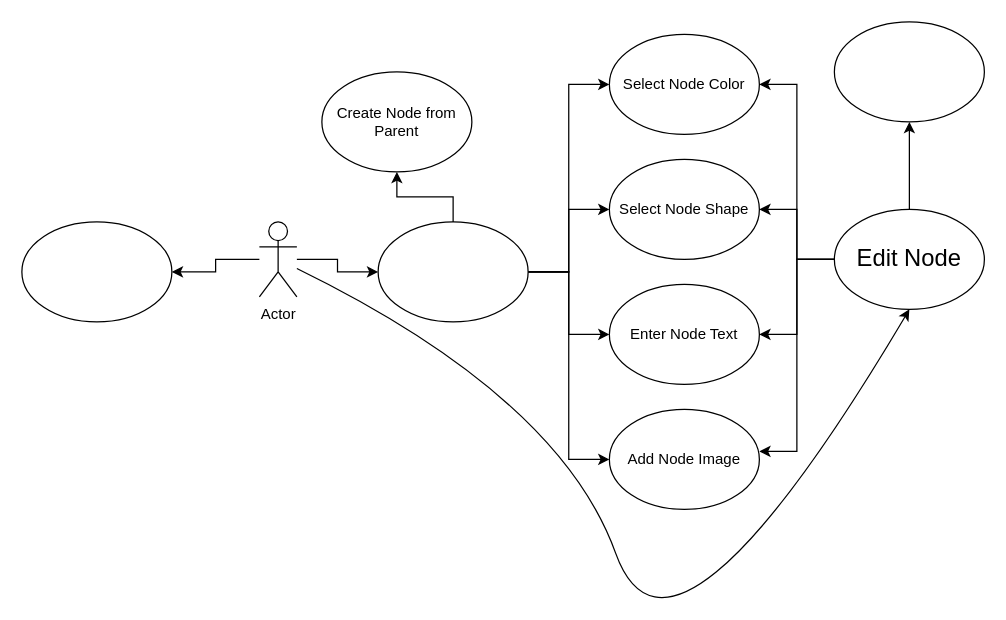
This 1006x620 diagram has some shape labels left out. Each missing label, with the centre of its shape:
Add New Child: the point at 908,71
Create New Node: the point at 452,271
Delete Existing Node: the point at 96,271
